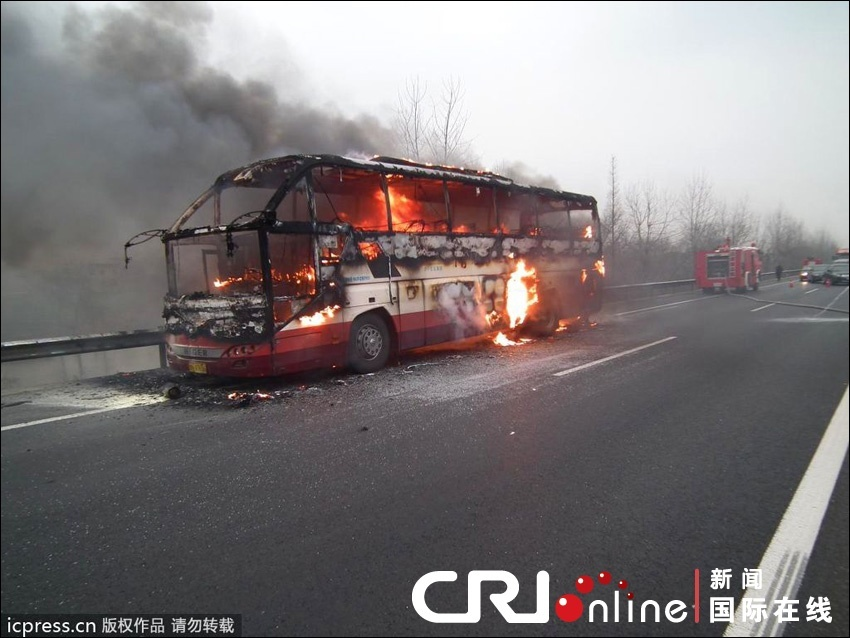fire: (489, 256, 543, 349), (365, 183, 424, 229)
